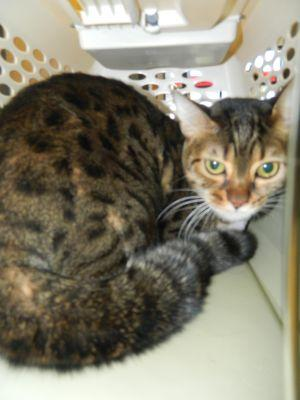bengal: (169, 84, 299, 245)
